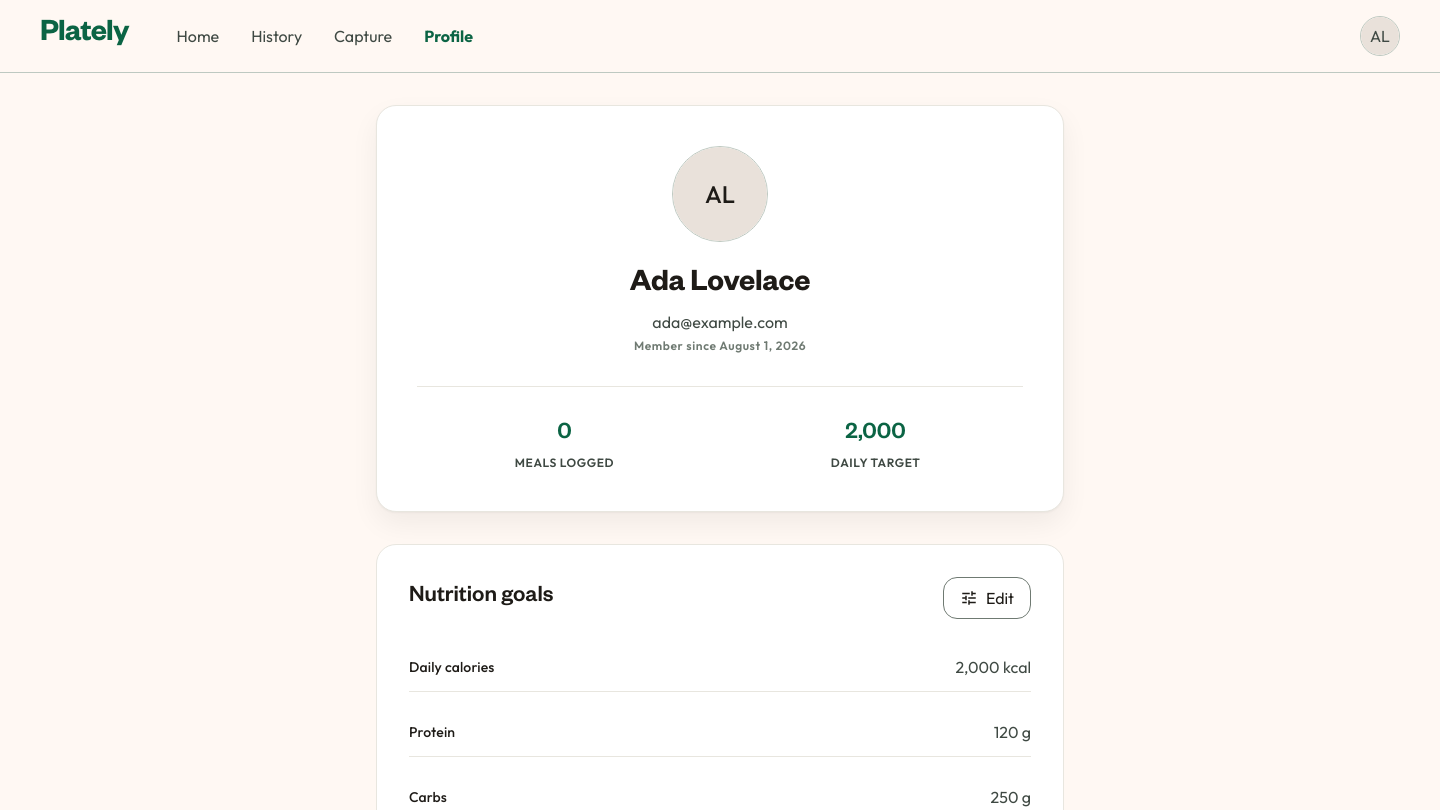
Scenario: Profile › saves edited goals as numbers and shows the new values
Click the button "Edit" at (987, 598), box [943, 577, 1031, 619]
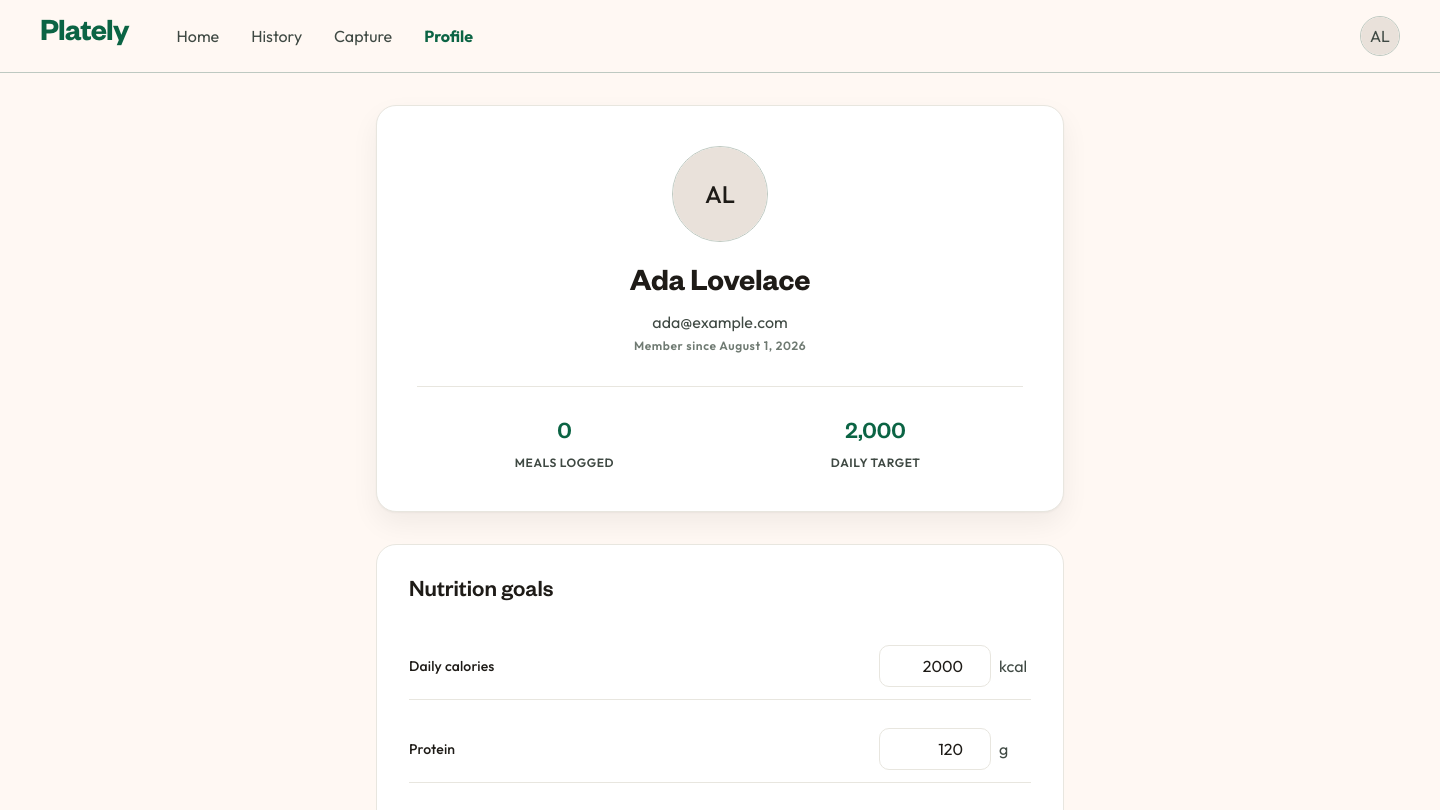
Replace the text in the number field next to "kcal" with "2400" at (935, 666), box [879, 645, 991, 687]
(page scrolled)
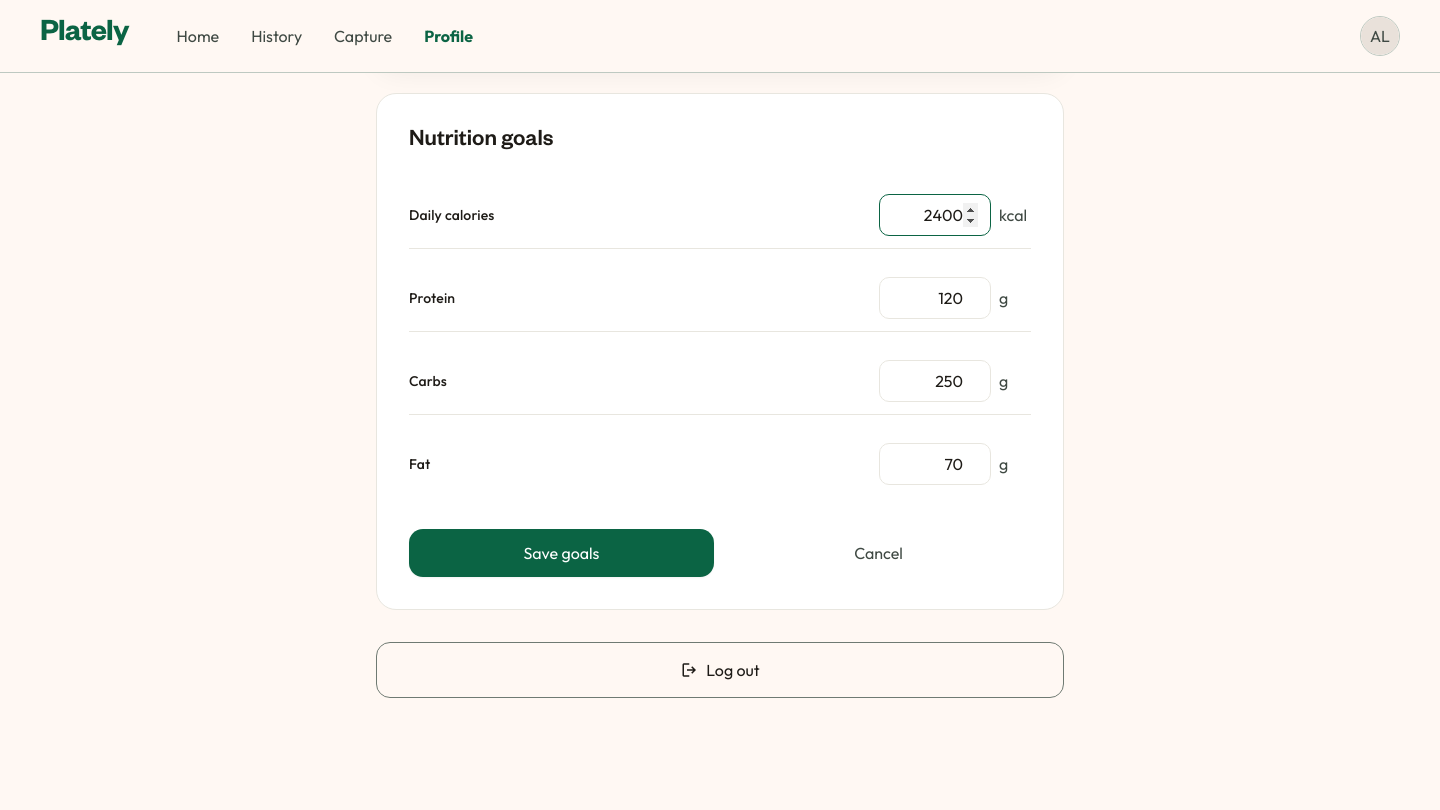
Click the button "Save goals" at (562, 553), box [409, 529, 714, 577]
(page scrolled)
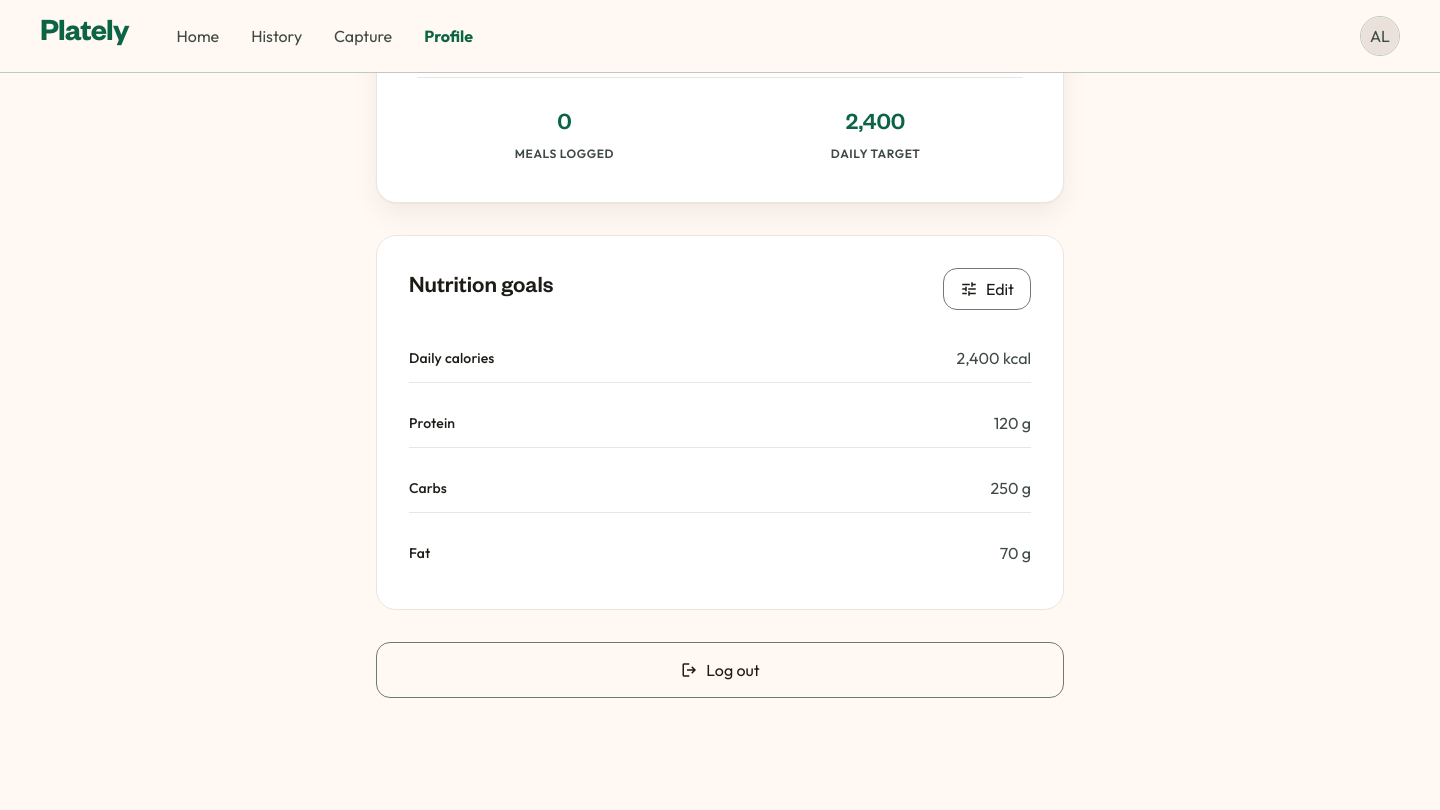
Expected: the text "2,400 kcal" is shown, [956, 346, 1031, 370]
Expected: the button "Save goals" is gone
